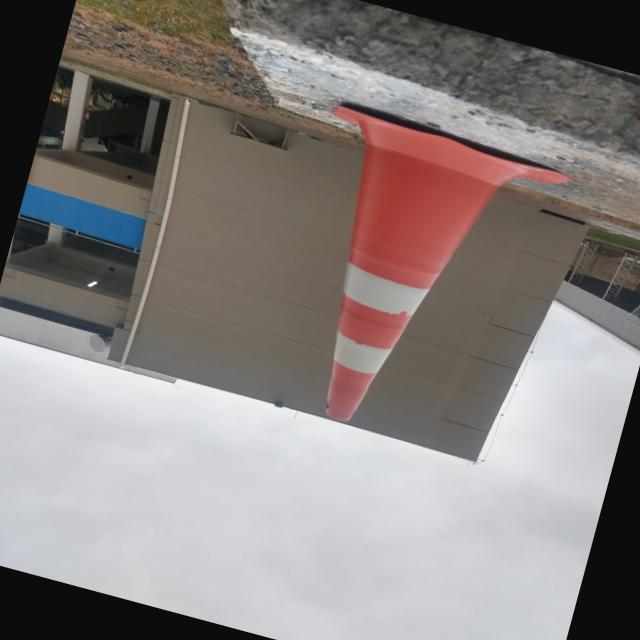cone: (240, 94, 538, 483)
